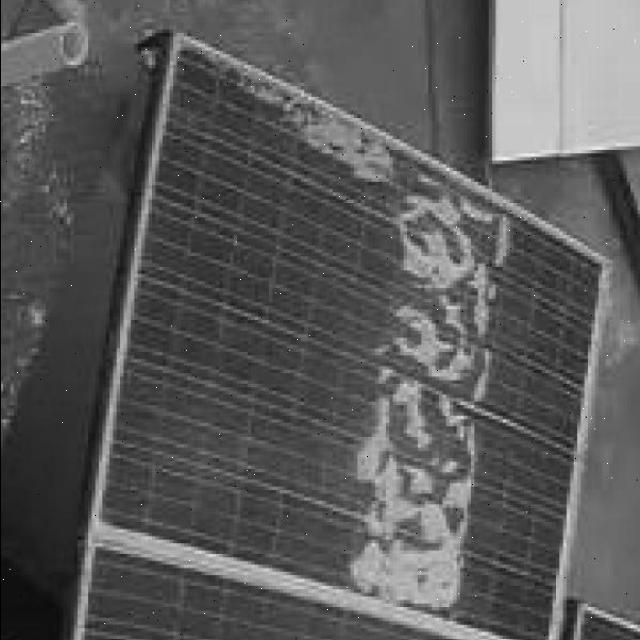Anomaly Solar Panel: (47, 30, 640, 640)
Snow: (340, 172, 518, 613), (224, 61, 405, 191)
